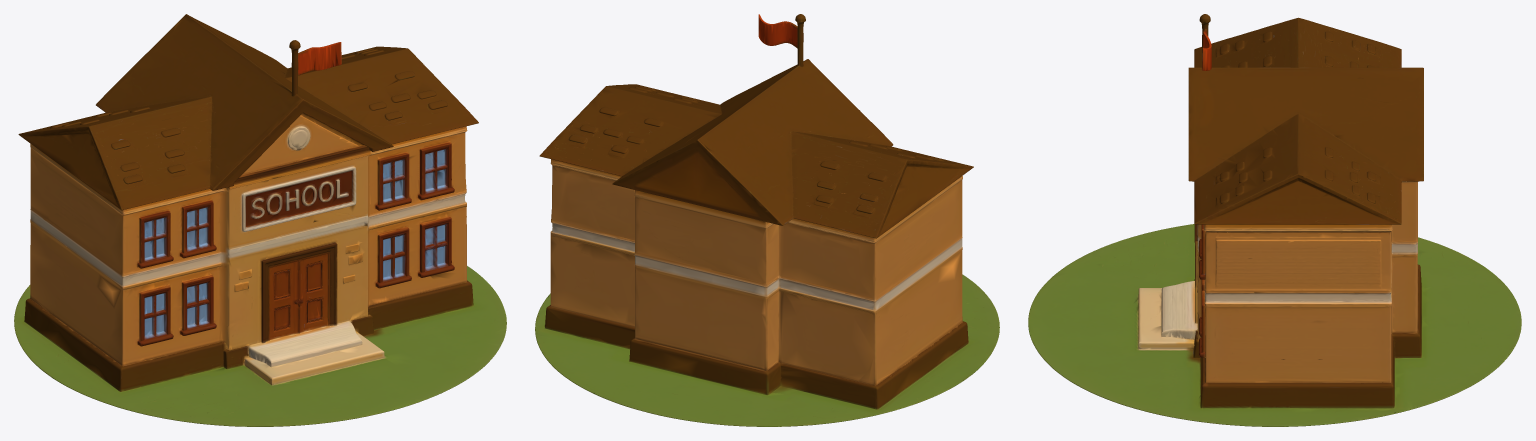
File: school_level1.glb
3 renders of one model, left to right at view 1: azimuth 30°, elevation 25°; view 2: azimuth 150°, elevation 25°; view 3: azimuth 270°, elevation 25°, orthographic. The views are drawn at different scales.
Parts seen in each view (by area): view 1: material; view 2: material; view 3: material.
Part boxes in pixels (x1,y1,x2,y2): material: (14, 14, 506, 426); material: (535, 14, 999, 426); material: (1028, 14, 1521, 426).
Size of the model in its own units: 0.9866 by 0.6806 by 0.9871.
Materials: 1 (1 with a texture image).
